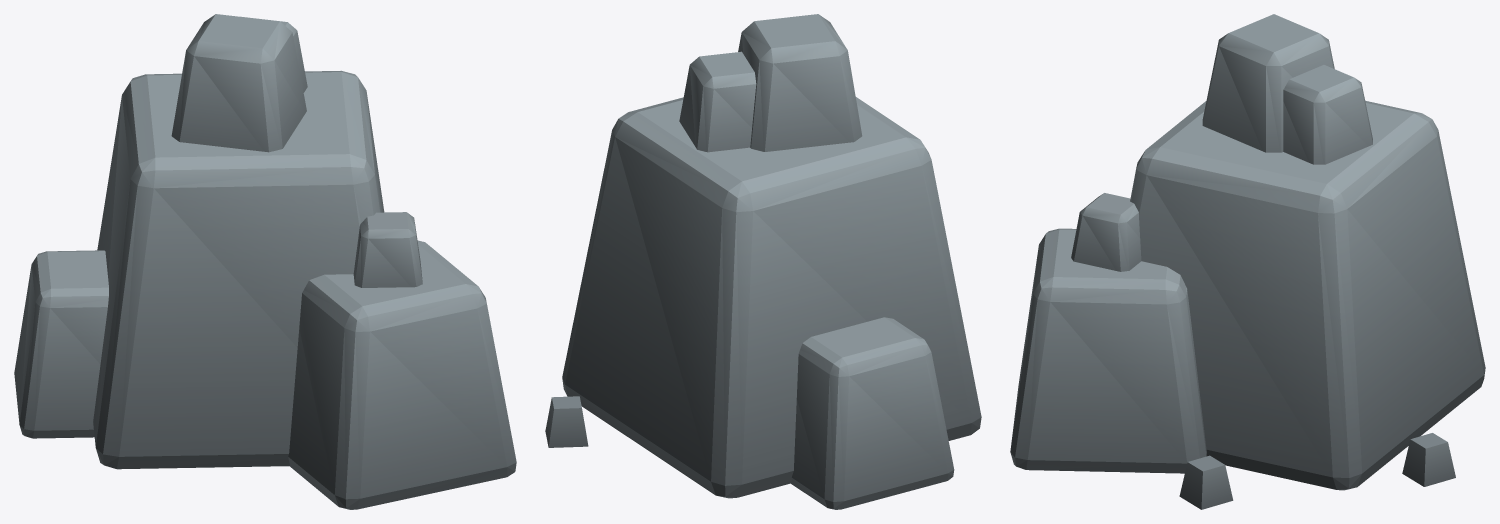
File: kf_rock_2_e.fbx
The picture shows the model from 3 angles, left to right: view 1: azimuth 30°, elevation 25°; view 2: azimuth 150°, elevation 25°; view 3: azimuth 270°, elevation 25°; orthographic projection. The views are drawn at different scales.
Visible parts, largest first — view 1: kf_rock_2_e_LOD0; view 2: kf_rock_2_e_LOD0; view 3: kf_rock_2_e_LOD0.
Part boxes in pixels (x1,y1,x2,y2): kf_rock_2_e_LOD0: (14, 14, 516, 509); kf_rock_2_e_LOD0: (545, 14, 981, 509); kf_rock_2_e_LOD0: (1010, 14, 1485, 509).
Size of what is drawn, in the model's own units: 7.6 by 6.87 by 7.94.
